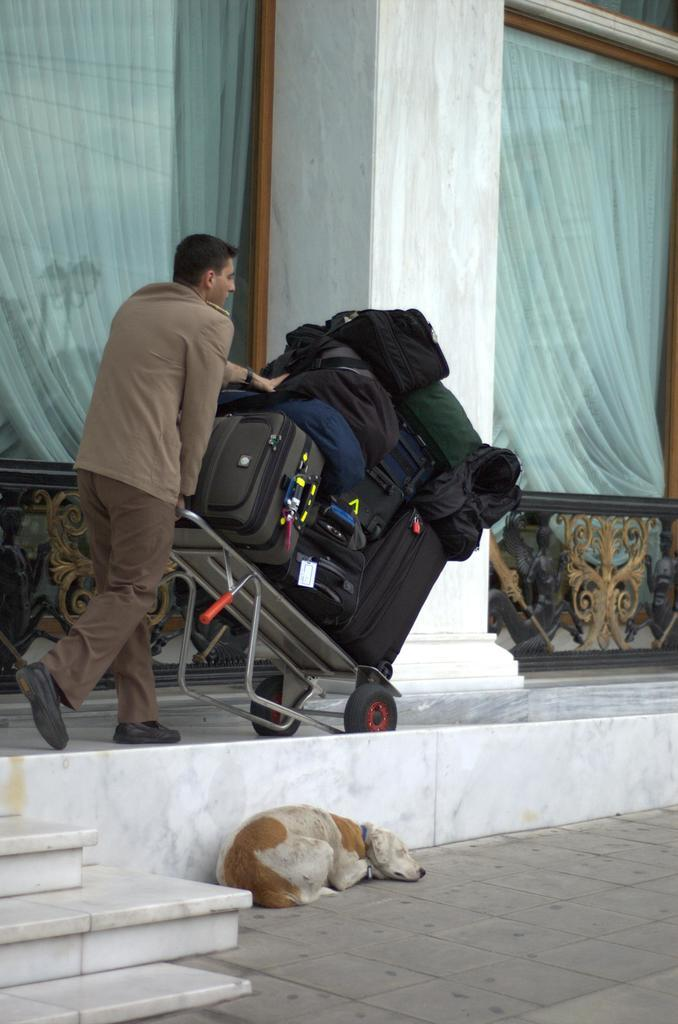Luggage-and-bags: (184, 333, 515, 713)
